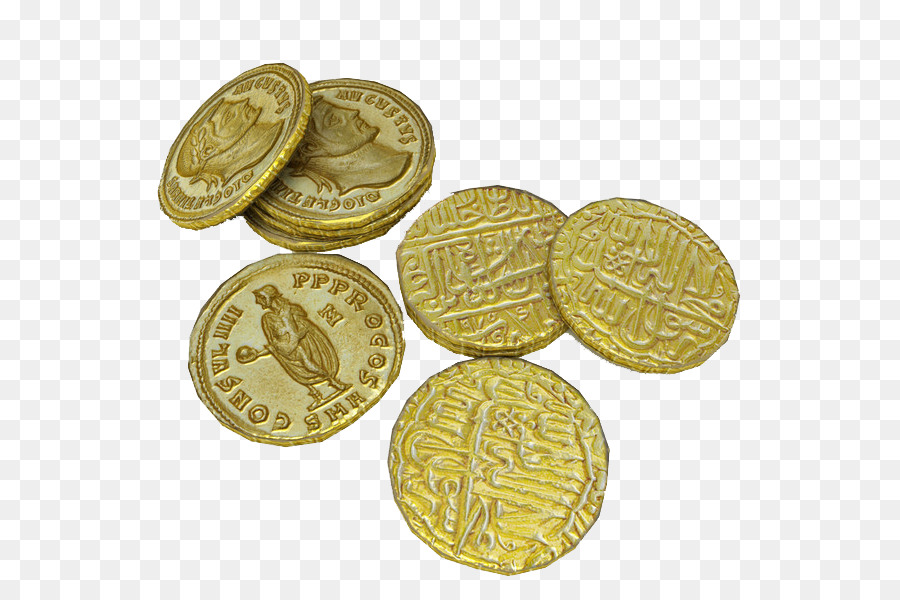coin: (385, 363, 609, 580), (184, 246, 404, 447), (551, 195, 743, 373), (403, 185, 575, 360), (251, 73, 433, 227), (151, 63, 313, 233)
